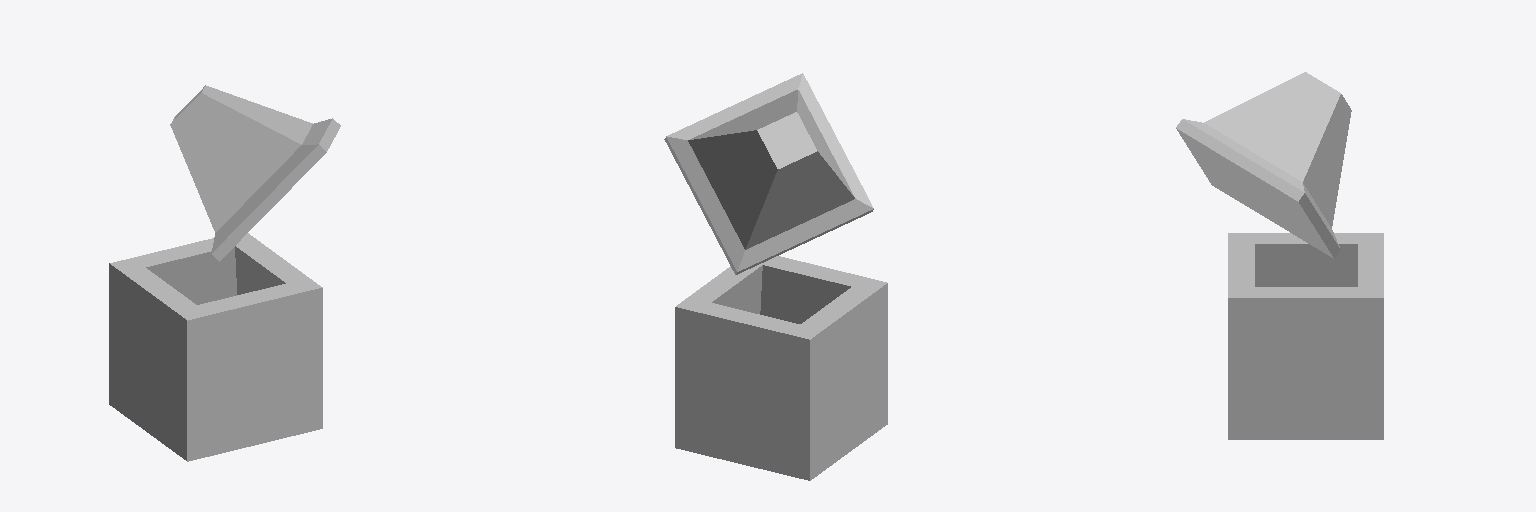
Rendered from AnimatedBox_000083.obj.
The picture shows the model from 3 angles: view 1: azimuth 30°, elevation 25°; view 2: azimuth 150°, elevation 25°; view 3: azimuth 270°, elevation 25°; orthographic projection.
Parts seen in each view (by area): view 1: Cube, Cube.001; view 2: Cube, Cube.001; view 3: Cube, Cube.001.
Part boxes in pixels (left/top/right/bottom): Cube: left=109, top=233, right=322, bottom=461; Cube.001: left=170, top=85, right=340, bottom=261; Cube: left=675, top=256, right=887, bottom=480; Cube.001: left=664, top=73, right=873, bottom=274; Cube: left=1228, top=233, right=1383, bottom=439; Cube.001: left=1176, top=72, right=1351, bottom=258.
Size of the model in its own units: 2.79 by 4.64 by 2.67.